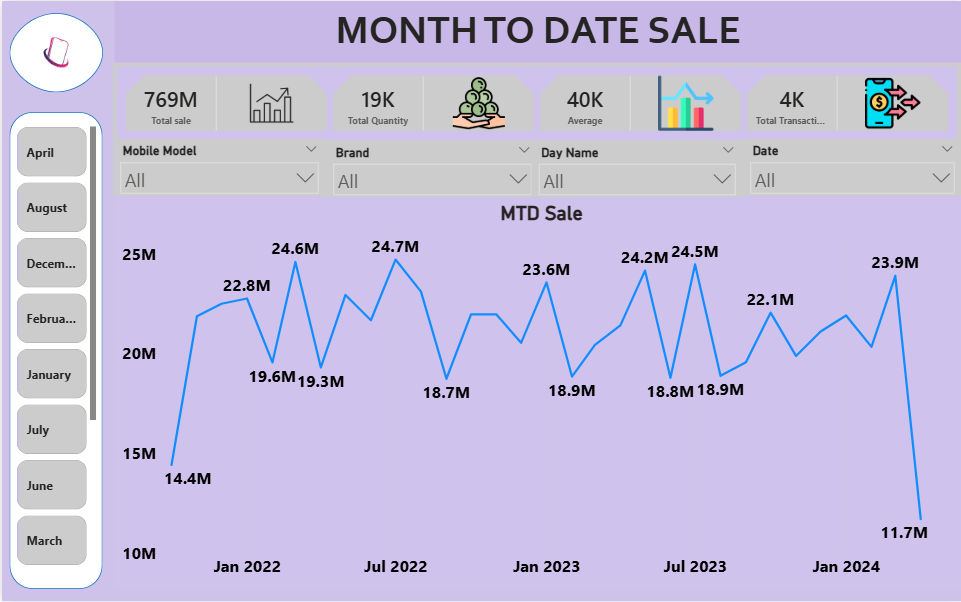

The page's visual inventory and layout, read from the dashboard file:
{"tool":"powerbi","page":{"name":"MTD","canvas":[1280,720],"ordinal":1},"visuals":[{"type":"shape","box":[9.4,15.1,124.7,105.8],"z":0},{"type":"image","box":[210,170,90,81.7],"z":1000},{"type":"shape","box":[9.4,147.4,124.7,555.6],"z":2000},{"type":"cardVisual","fields":{"Data":["sales data.Total sale","sales data.Total Quantity","sales data.Average","sales data.Total Transactions"]},"box":[148.3,0,1131.7,108.3],"z":3000},{"type":"slicer","fields":{"Values":["sales data.Mobile Model"]},"box":[148.3,108.3,283.3,75],"z":4000},{"type":"slicer","fields":{"Values":["sales data.Brand"]},"box":[431.7,108.3,283.3,75],"z":5000},{"type":"slicer","fields":{"Values":["sales data.Day Name"]},"box":[705,108.3,283.3,75],"z":6000},{"type":"slicer","fields":{"Values":["sales data.Date.Variation.Date Hierarchy.Year"]},"box":[988.3,108.3,291.7,75],"z":7000},{"type":"image","box":[32.2,31.1,80,73.3],"z":8000},{"type":"lineChart","title":"MTD Sale","fields":{"Category":["Custom_calender.Dates.Variation.Date Hierarchy.Year","Custom_calender.Dates.Variation.Date Hierarchy.Quarter","Custom_calender.Dates.Variation.Date Hierarchy.Month","Custom_calender.Dates.Variation.Date Hierarchy.Day"],"Y":["sales data.MTD"]},"box":[149.5,182.9,1130.9,520.1],"z":9000},{"type":"advancedSlicerVisual","fields":{"Values":["Custom_calender.Month Name"]},"box":[13.2,162.5,117.2,525.4],"z":10000}]}

Visuals, with their boxes on the page's 1280x720 design canvas (x1, y1, x2, y2). These are canvas units, not pixel positions in the 961x602 screenshot, which may show the page scaled, cropped or inside an application window:
shape: 9,15,134,121
image: 210,170,300,252
shape: 9,147,134,703
cardVisual - sales data.Total sale x sales data.Total Quantity: 148,0,1280,108
slicer - sales data.Mobile Model: 148,108,432,183
slicer - sales data.Brand: 432,108,715,183
slicer - sales data.Day Name: 705,108,988,183
slicer - sales data.Date.Variation.Date Hierarchy.Year: 988,108,1280,183
image: 32,31,112,104
"MTD Sale" lineChart: 150,183,1280,703
advancedSlicerVisual - Custom_calender.Month Name: 13,162,130,688
